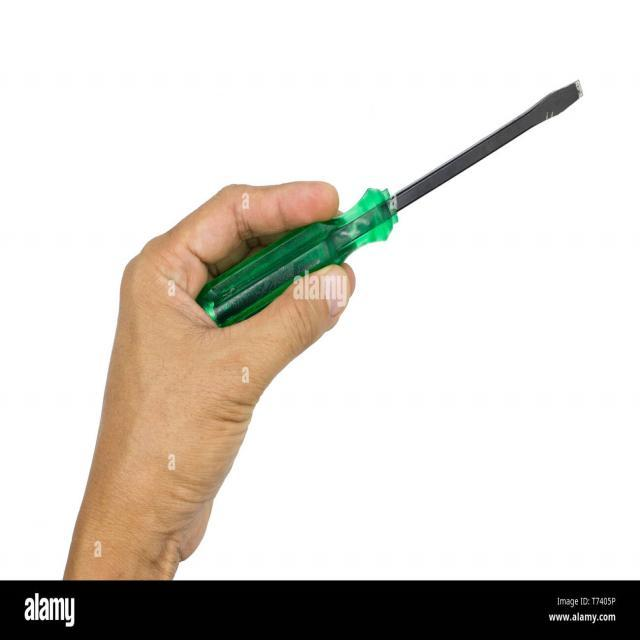screwdriver: (190, 74, 594, 331)
